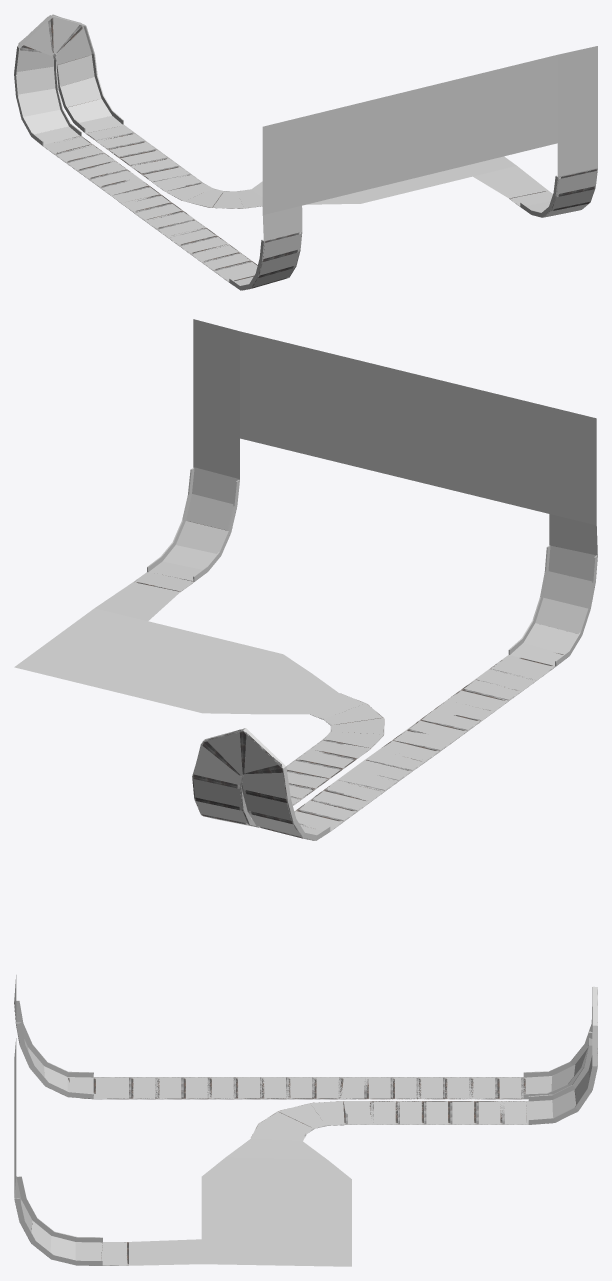
Rendered from Track3.fbx.
The picture shows the model from 3 angles, top to bottom: view 1: azimuth 30°, elevation 25°; view 2: azimuth 150°, elevation 25°; view 3: azimuth 270°, elevation 25°; orthographic projection. The views are drawn at different scales.
Visible parts, largest first — view 1: TrackFloor, TrackHolo, TrackStructure, TrackWalls; view 2: TrackFloor, TrackHolo, TrackStructure, TrackWalls; view 3: TrackFloor, TrackHolo, TrackWalls, TrackStructure.
Part boxes in pixels (<box>): TrackFloor: <box>14,14,597,281</box>; TrackHolo: <box>17,15,596,289</box>; TrackStructure: <box>14,15,597,290</box>; TrackWalls: <box>14,15,597,290</box>; TrackFloor: <box>14,319,597,836</box>; TrackHolo: <box>136,580,562,839</box>; TrackStructure: <box>134,508,597,840</box>; TrackWalls: <box>147,468,597,840</box>; TrackFloor: <box>14,975,592,1266</box>; TrackHolo: <box>69,1006,597,1254</box>; TrackWalls: <box>14,986,597,1265</box>; TrackStructure: <box>14,989,597,1265</box>.
Bounding box in the file's own units: 34210 × 17632 × 44663.
